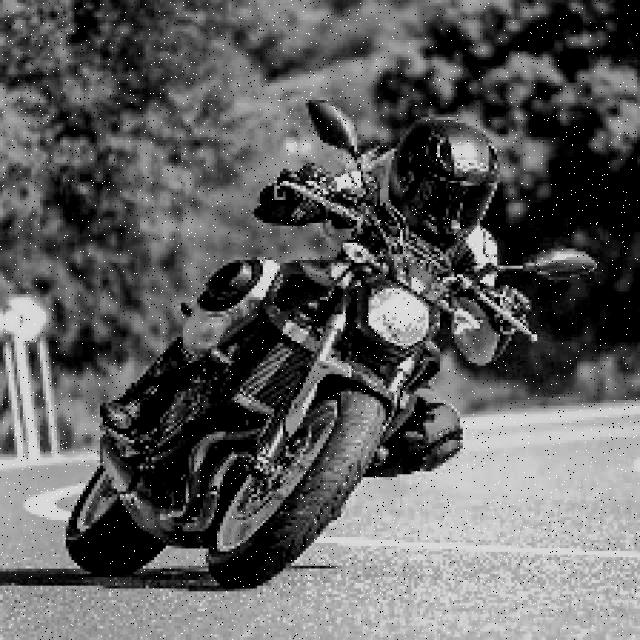Bike: (78, 197, 498, 591)
